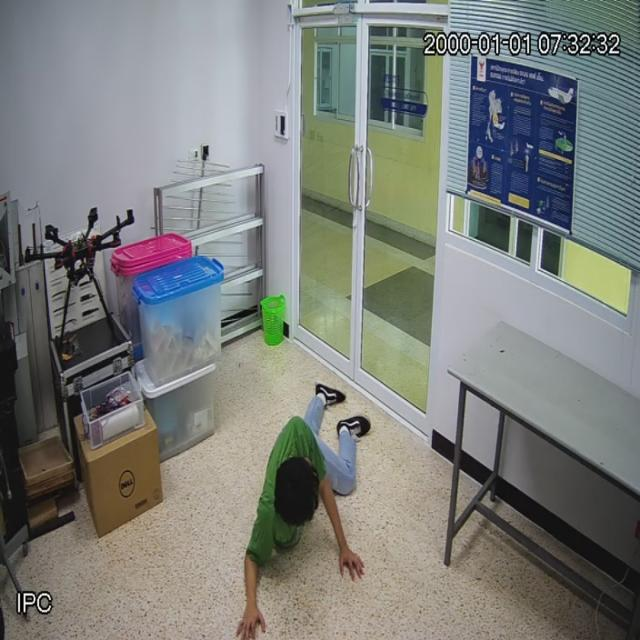fall: (249, 382, 369, 632)
